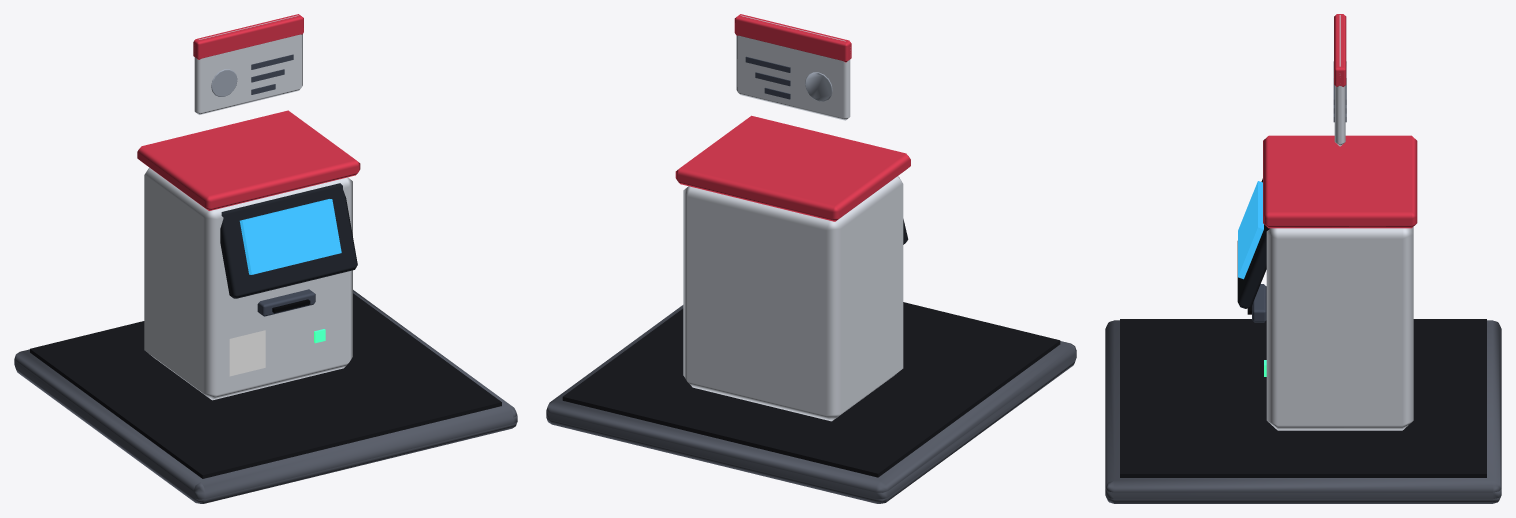
Rendered from iam.glb.
3 views of the same model, side by side, from view 1: azimuth 30°, elevation 25°; view 2: azimuth 150°, elevation 25°; view 3: azimuth 270°, elevation 25° (orthographic). The views are drawn at different scales.
Parts seen in each view (by area): view 1: body.rubber, body.white, body.concrete, body.accent, body.bezel, body.screen, bob_card.white, bob_card.accent, body.badge, body.steel, bob_card.steel, bob_card.steel_light; view 2: body.white, body.rubber, body.concrete, body.accent, bob_card.white, bob_card.accent, bob_card.steel, bob_card.steel_light; view 3: body.rubber, body.white, body.concrete, body.accent, body.screen, body.bezel, bob_card.accent, bob_card.white, body.steel.
Part boxes in pixels (bbox=[...]): body.rubber: bbox=[30, 293, 501, 478]; body.white: bbox=[144, 168, 352, 400]; body.concrete: bbox=[14, 290, 517, 503]; body.accent: bbox=[137, 110, 360, 210]; body.bezel: bbox=[220, 183, 357, 298]; body.screen: bbox=[239, 199, 341, 274]; bob_card.white: bbox=[194, 15, 302, 114]; bob_card.accent: bbox=[193, 14, 303, 59]; body.badge: bbox=[229, 330, 265, 376]; body.steel: bbox=[257, 289, 315, 316]; bob_card.steel: bbox=[251, 54, 293, 94]; bob_card.steel_light: bbox=[211, 69, 237, 96]; body.white: bbox=[683, 176, 903, 421]; body.rubber: bbox=[562, 302, 1060, 477]; body.concrete: bbox=[546, 305, 1076, 503]; body.accent: bbox=[675, 115, 910, 221]; bob_card.white: bbox=[736, 15, 850, 120]; bob_card.accent: bbox=[734, 14, 851, 62]; bob_card.steel: bbox=[745, 56, 790, 99]; bob_card.steel_light: bbox=[805, 72, 832, 101]; body.rubber: bbox=[1120, 319, 1486, 477]; body.white: bbox=[1266, 227, 1413, 430]; body.concrete: bbox=[1105, 320, 1501, 503]; body.accent: bbox=[1263, 135, 1417, 228]; body.screen: bbox=[1238, 181, 1263, 279]; body.bezel: bbox=[1237, 178, 1269, 308]; bob_card.accent: bbox=[1334, 14, 1346, 86]; bob_card.white: bbox=[1334, 15, 1345, 146]; body.steel: bbox=[1252, 284, 1266, 322].
Size of the model in its own units: 1.08 by 1.15 by 1.08.
